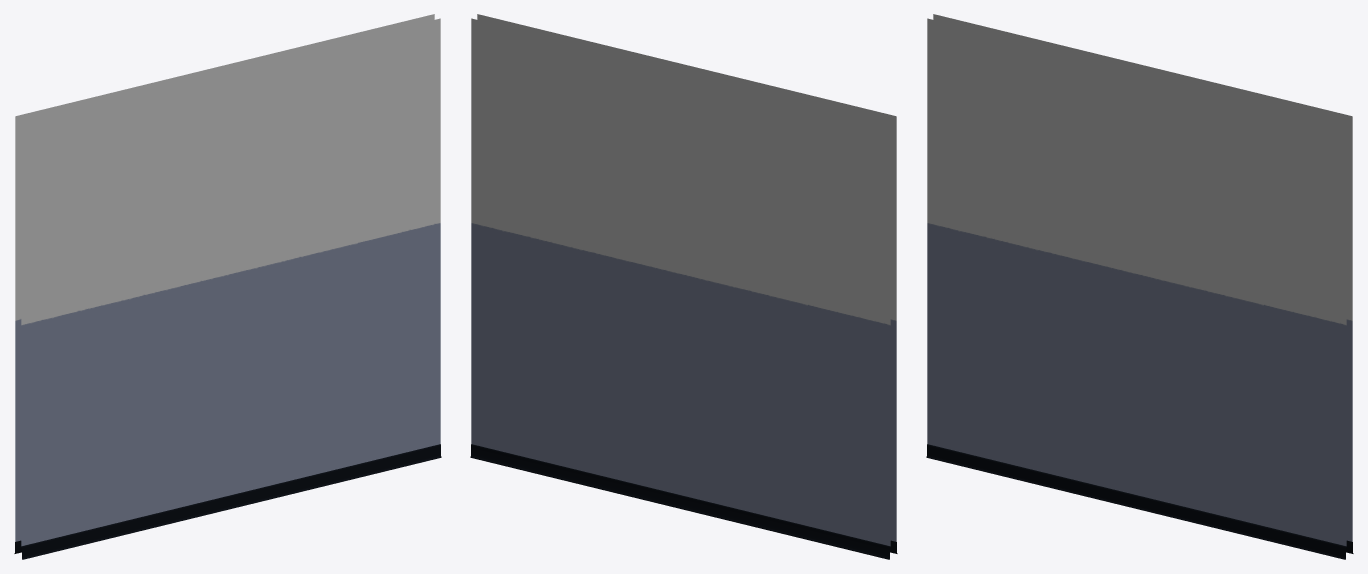
The model's file is SM_Wall_02.fbx.
3 views of the same model, side by side, from view 1: azimuth 30°, elevation 25°; view 2: azimuth 150°, elevation 25°; view 3: azimuth 330°, elevation 25° (orthographic).
Parts seen in each view (by area): view 1: SM_Wall_02; view 2: SM_Wall_02; view 3: SM_Wall_02.
Part boxes in pixels (x1,y1,x2,y2): SM_Wall_02: [14, 14, 441, 559]; SM_Wall_02: [470, 14, 897, 559]; SM_Wall_02: [926, 14, 1353, 559].
Bounding box in the file's own units: 400 × 400 × 13.
2 materials, 2 textured.
